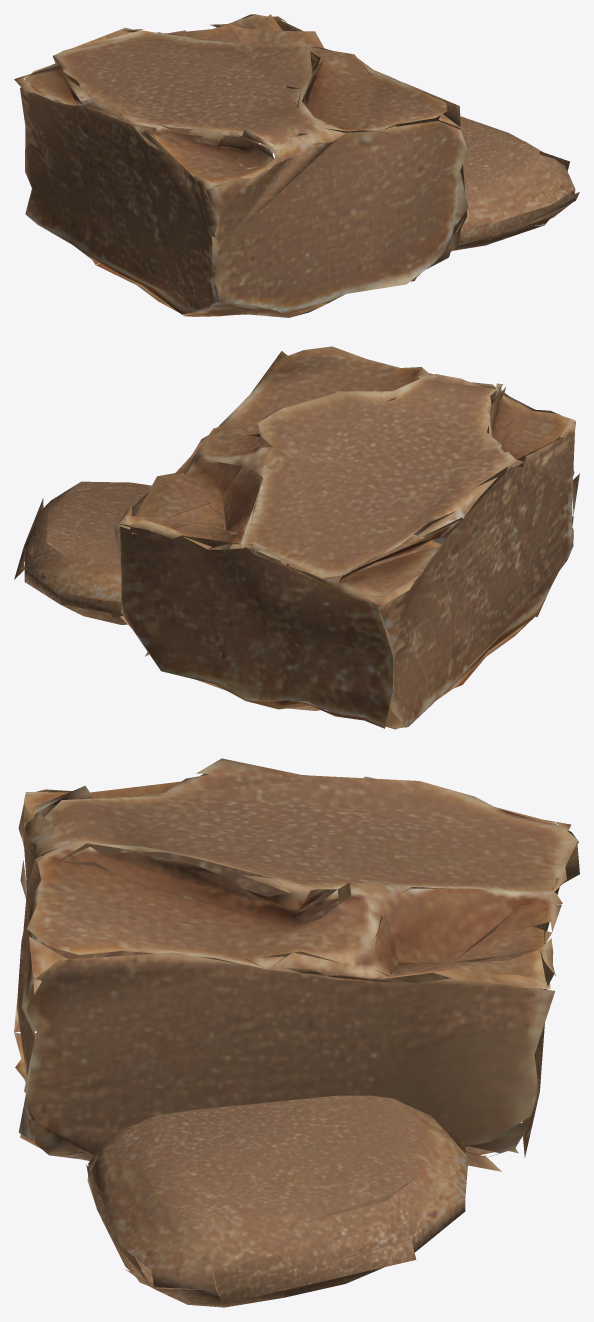
File: desert_pebble_pair_lod1.glb
3 views of the same model, one above another, from view 1: azimuth 30°, elevation 25°; view 2: azimuth 150°, elevation 25°; view 3: azimuth 270°, elevation 25° (orthographic). The views are drawn at different scales.
Visible parts, largest first — view 1: desert_pebble_pair.001; view 2: desert_pebble_pair.001; view 3: desert_pebble_pair.001.
Part boxes in pixels (box(x1,y1,x2,y2)): desert_pebble_pair.001: box(14, 14, 579, 317); desert_pebble_pair.001: box(14, 346, 579, 729); desert_pebble_pair.001: box(14, 758, 579, 1307).
Bounding box in the file's own units: 2.06 × 0.9098 × 1.58.
Materials: 2 (2 with a texture image).
